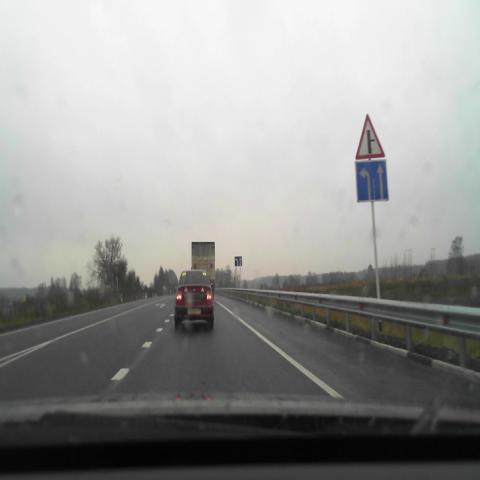2_3_2: (356, 114, 385, 158)
